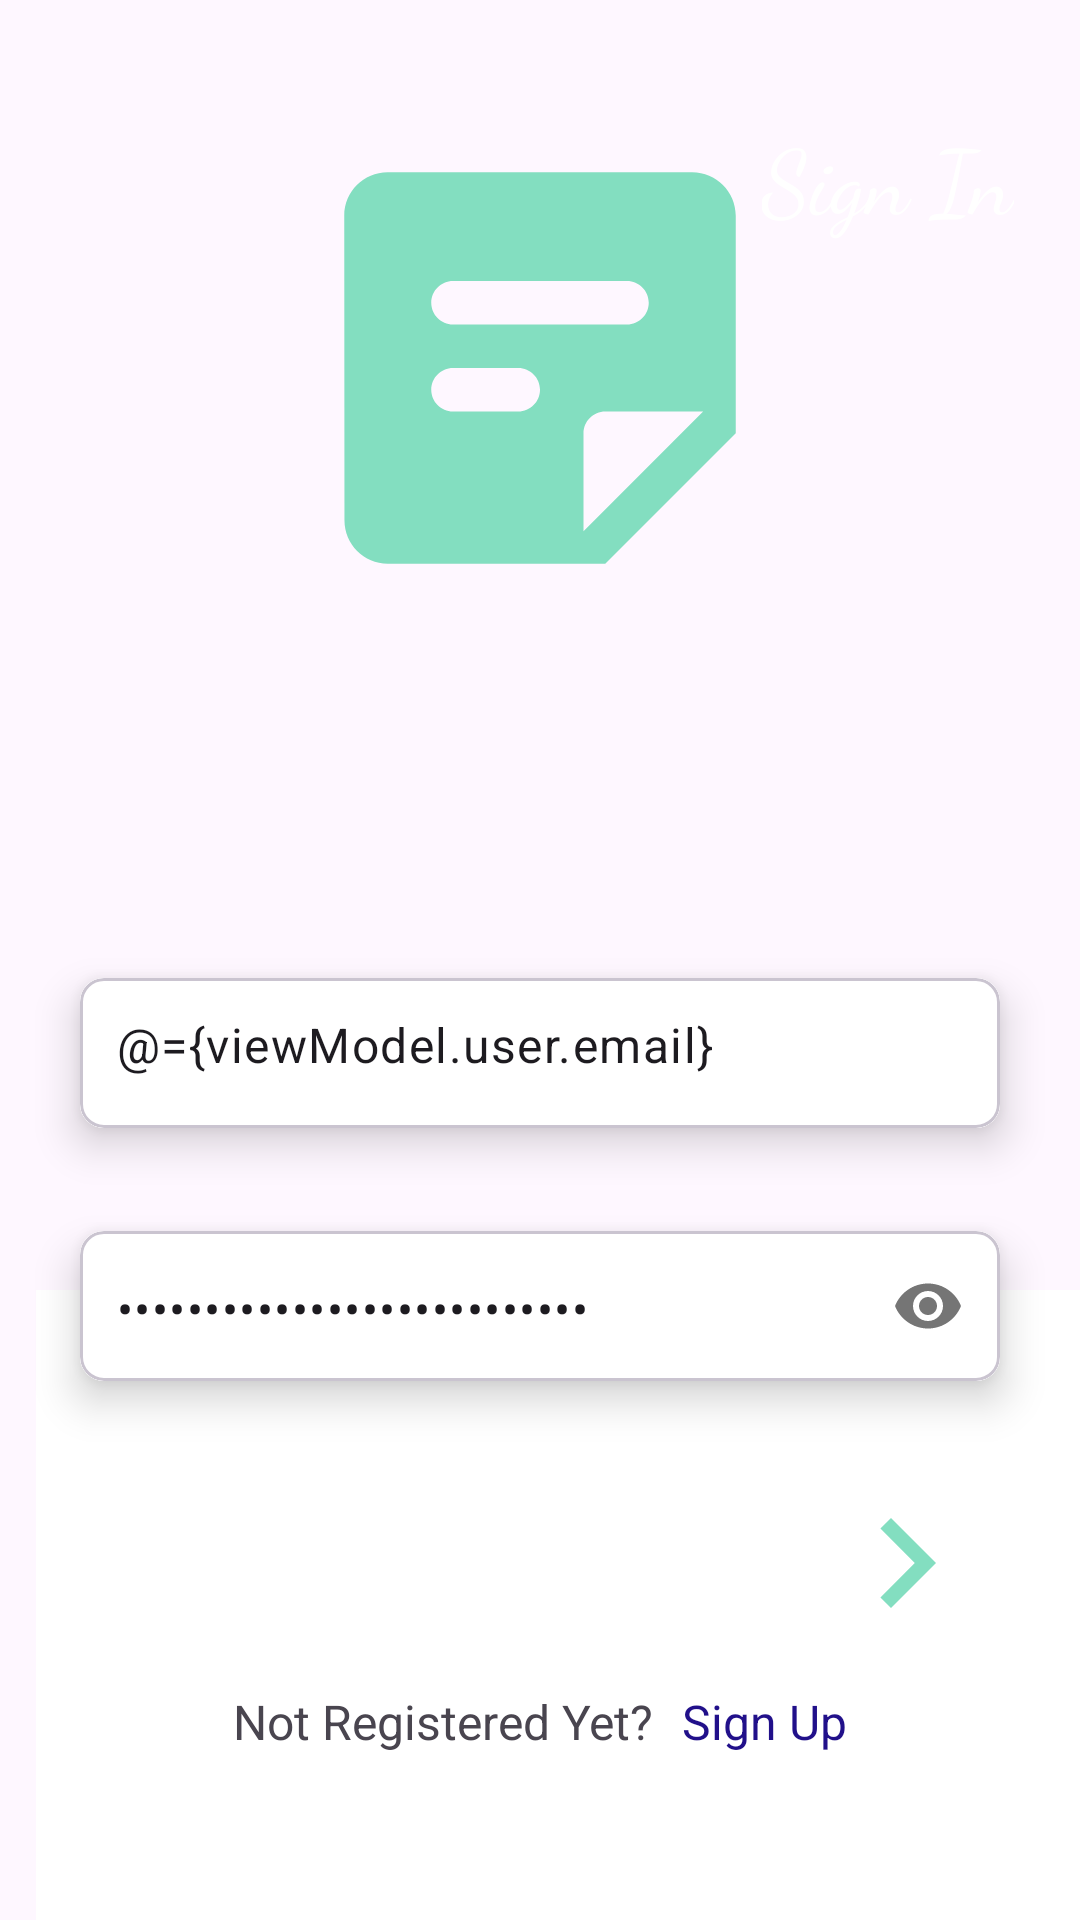

Named icons in this screenshot (1080*1920) and their bounding boxes, (x1, y1, x2, y2):
Click to sign in: (880, 1518, 936, 1608)
